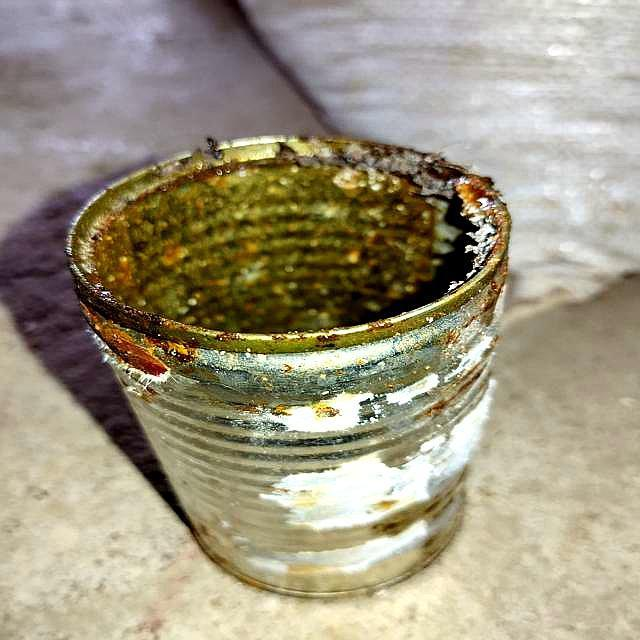Non-biodegradable: (65, 132, 514, 599)
